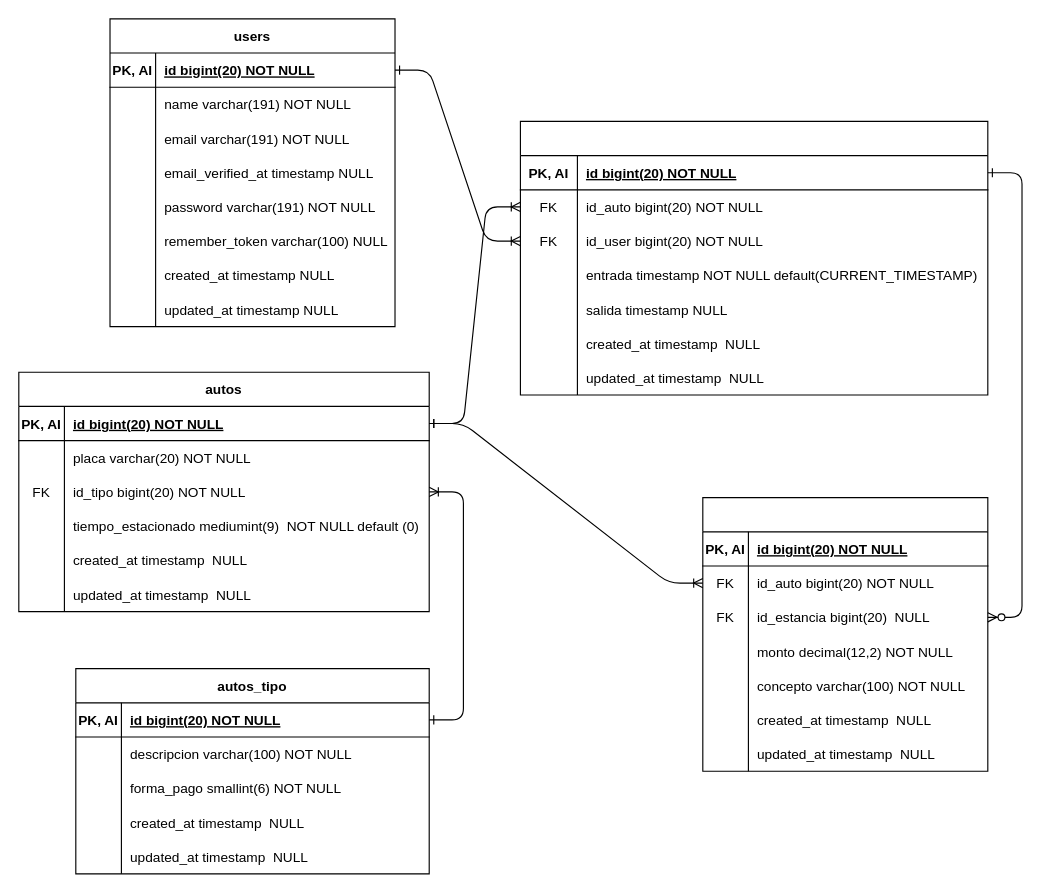
The diagram is 1041 pixels wide and 893 high, and some of its shapes have lost their labels. Here are the shapes that lost their labels. From the top down, the box of each, then its label:
(519, 120, 988, 395): estancias
(702, 496, 988, 771): pagos
